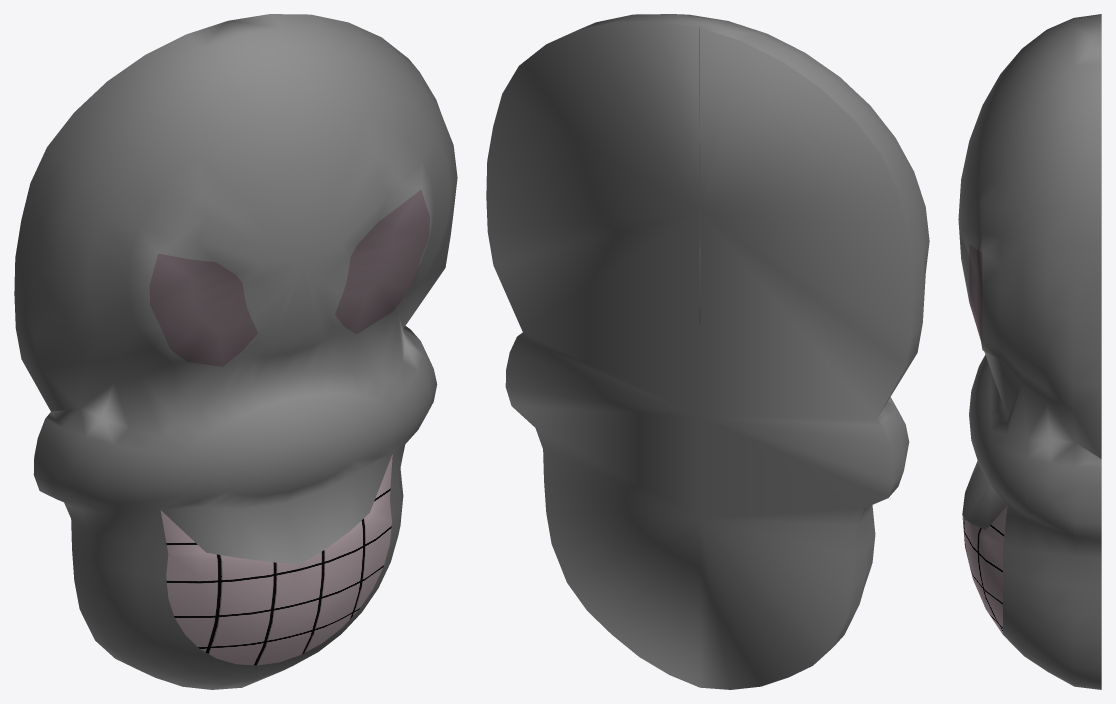
Rendered from Calavera.fbx.
3 renders of one model, left to right at view 1: azimuth 30°, elevation 25°; view 2: azimuth 150°, elevation 25°; view 3: azimuth 270°, elevation 25°, orthographic. The views are drawn at different scales.
Visible parts, largest first — view 1: Sphere002, Dientes; view 2: Sphere002; view 3: Sphere002, Dientes.
Boxes of the visible parts, box(x1,y1,x2,y2) form: Sphere002: box(14, 14, 457, 689); Dientes: box(160, 454, 392, 665); Sphere002: box(486, 14, 929, 689); Sphere002: box(958, 14, 1101, 689); Dientes: box(962, 505, 1007, 634).
Size of the model in its own units: 33.67 by 49.7 by 10.13.
Materials: 3 (1 with a texture image).
